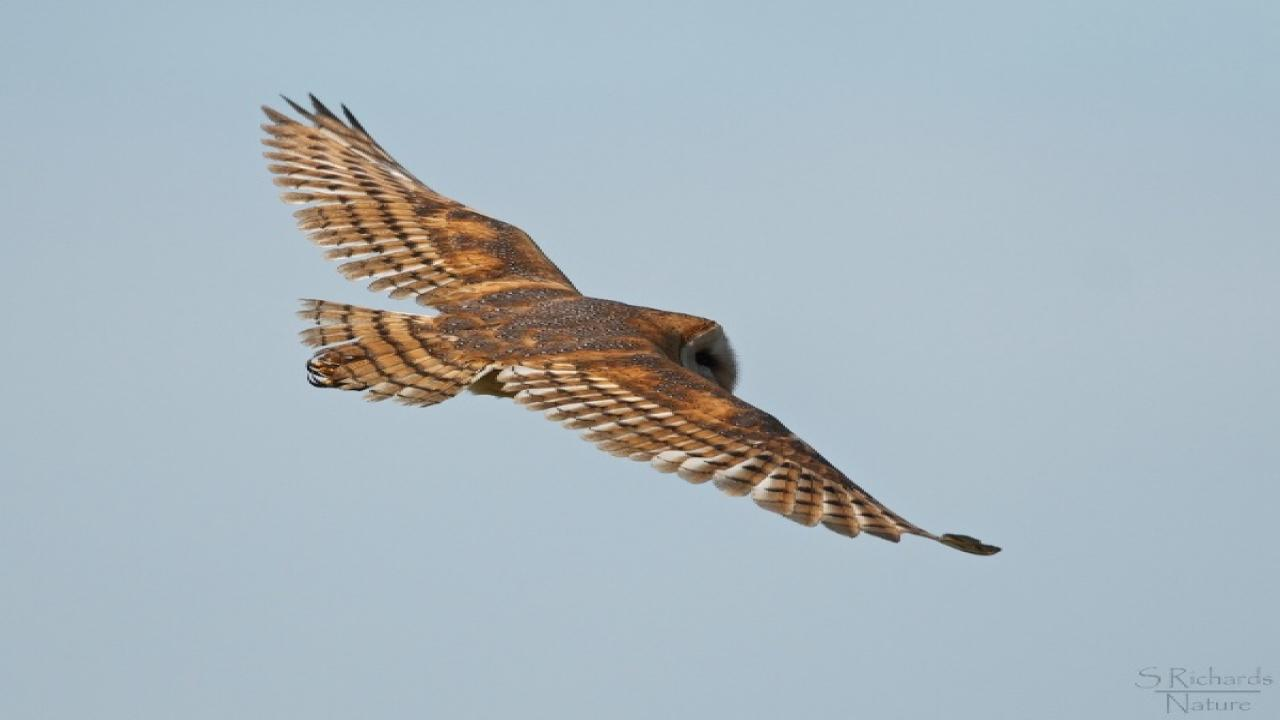Bird: (239, 84, 1018, 566)
